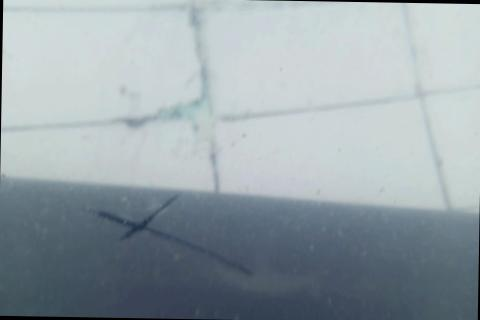keretakan: (78, 191, 257, 279)
